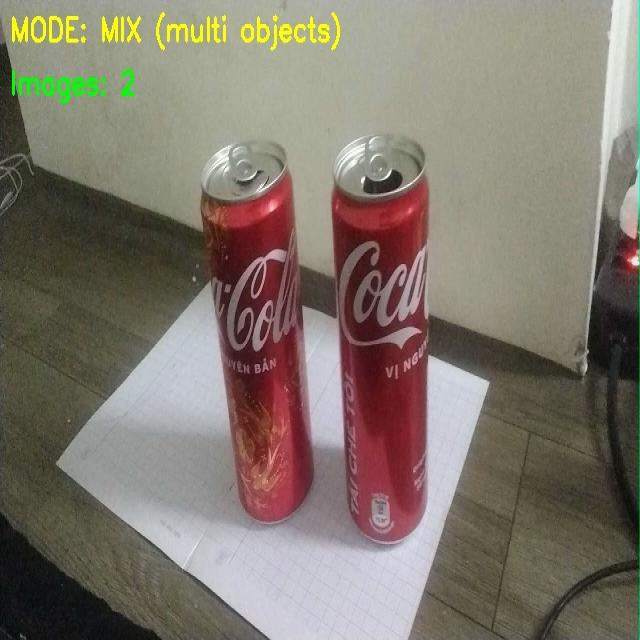Coca: (183, 125, 316, 530)
Coca_open: (320, 120, 470, 549)
